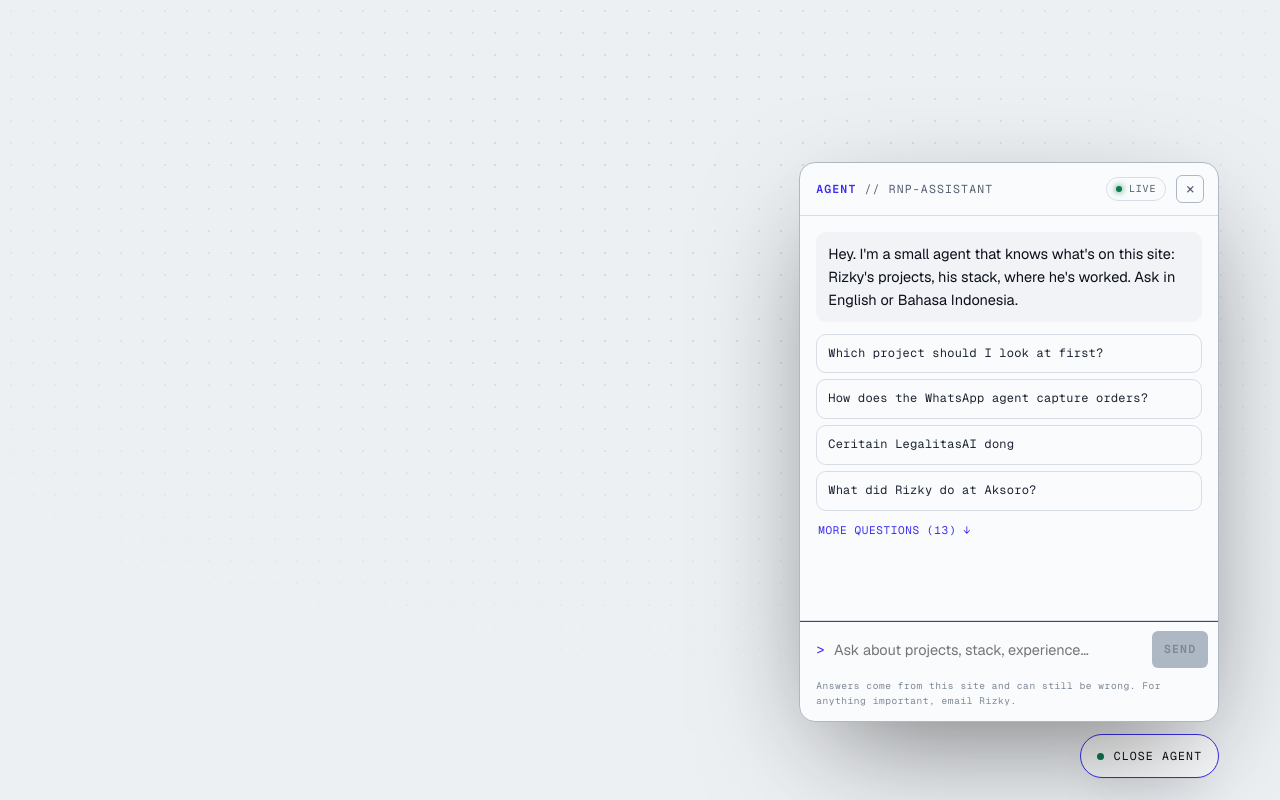
Test: AgentConsole › falls back to site search if the server says it is offline
Type "what tools does he use" into the field. click: (989, 649)
box: [834,632,1144,667]
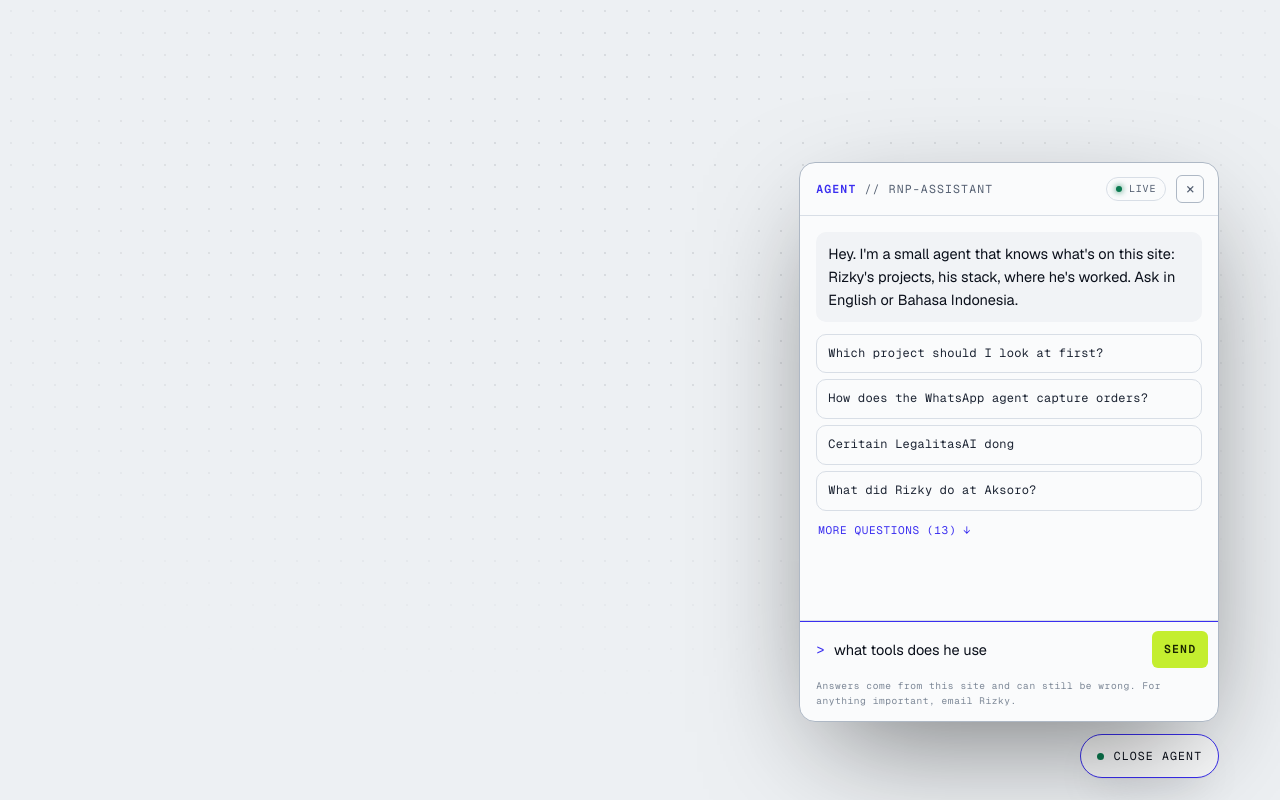
Submit the form, box [800,620,1218,678]
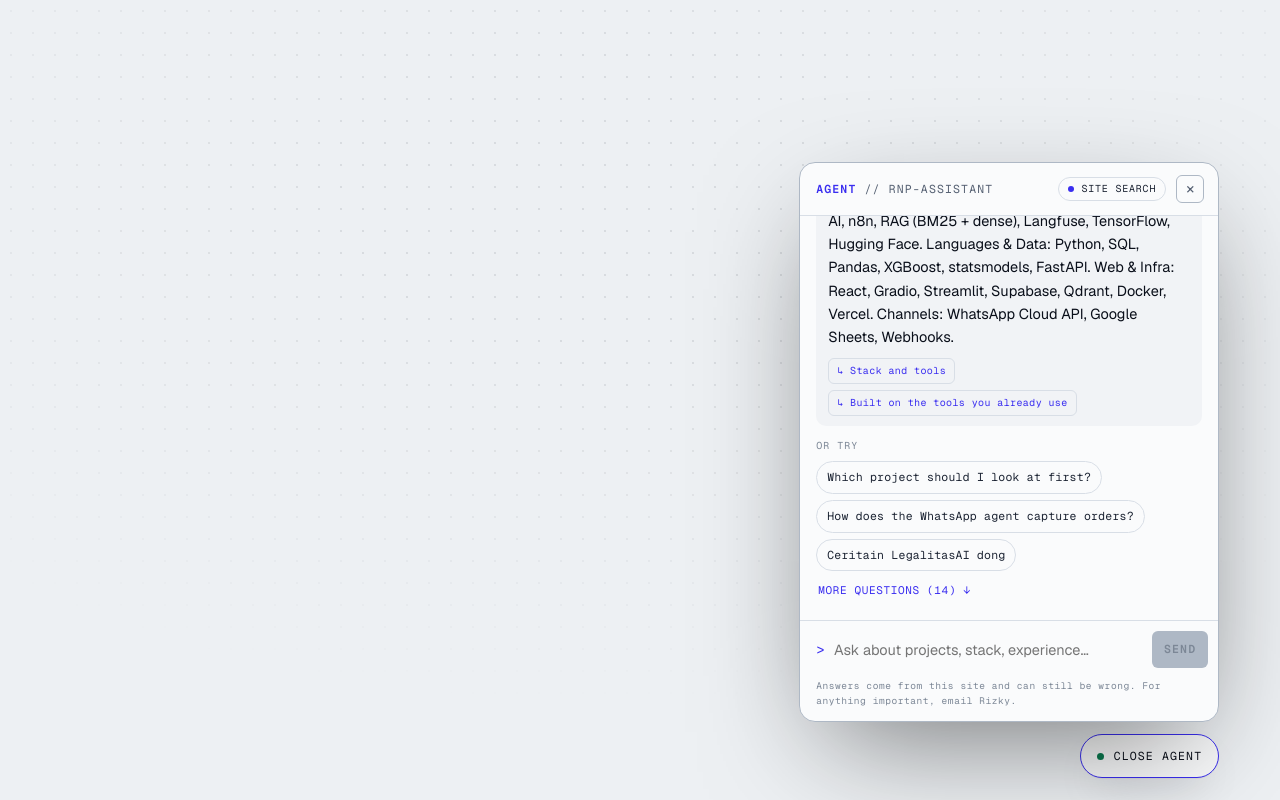
Now the text "Claude API, Cekat AI, n8n" is shown, box [828,216,1180,346]
Now the text "site search" is shown, box [1058,177,1166,201]
